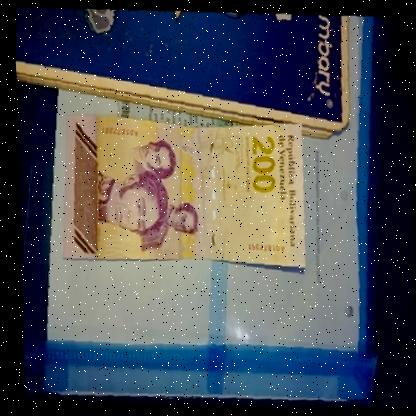two_hundred-front-vef: (48, 104, 310, 276)
